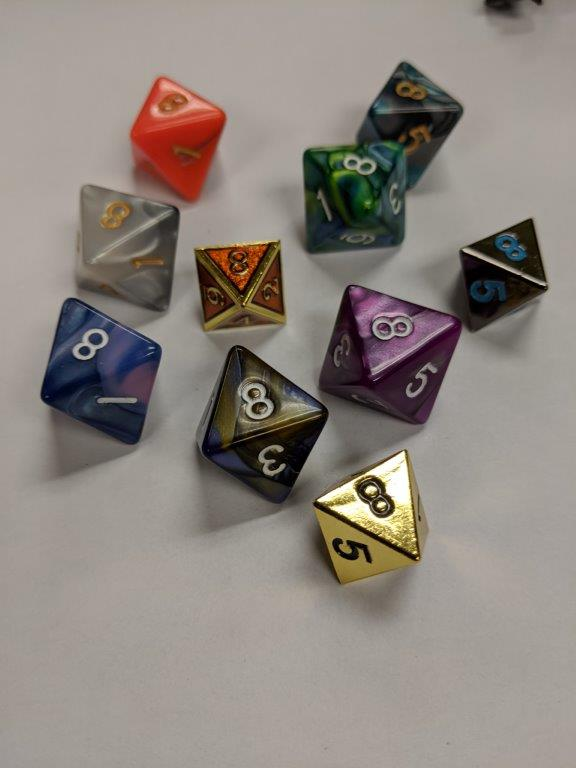d8-8: (311, 282, 462, 427), (192, 344, 328, 504), (40, 295, 162, 454), (311, 448, 431, 586), (356, 58, 462, 194), (71, 182, 179, 311), (129, 76, 224, 202), (458, 217, 551, 335), (306, 144, 406, 252), (193, 241, 287, 329)
